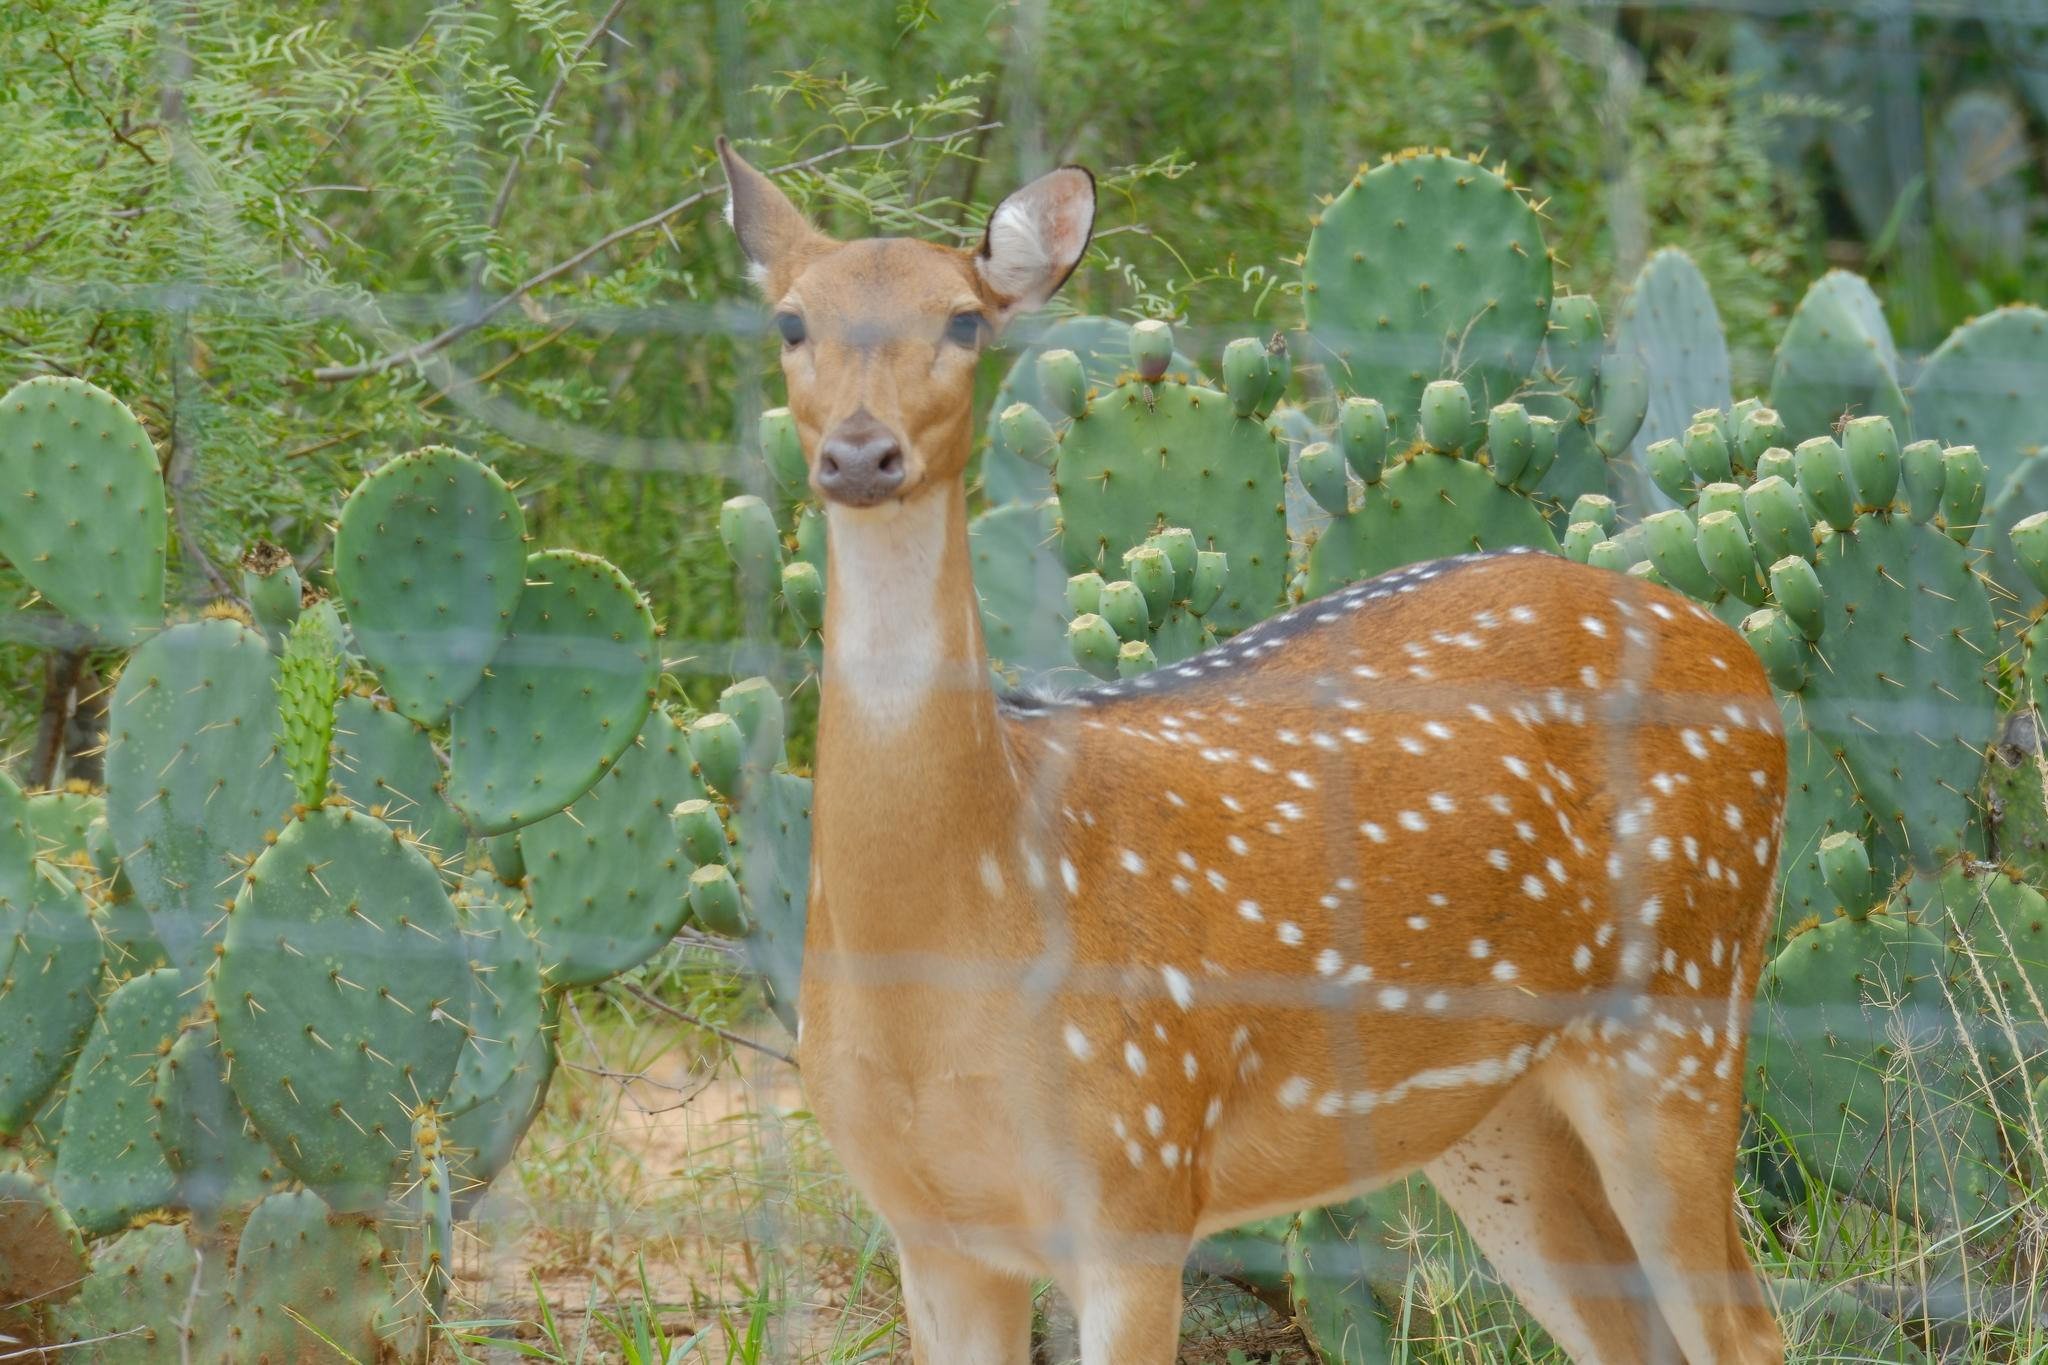Deer: (723, 146, 1788, 1363)
